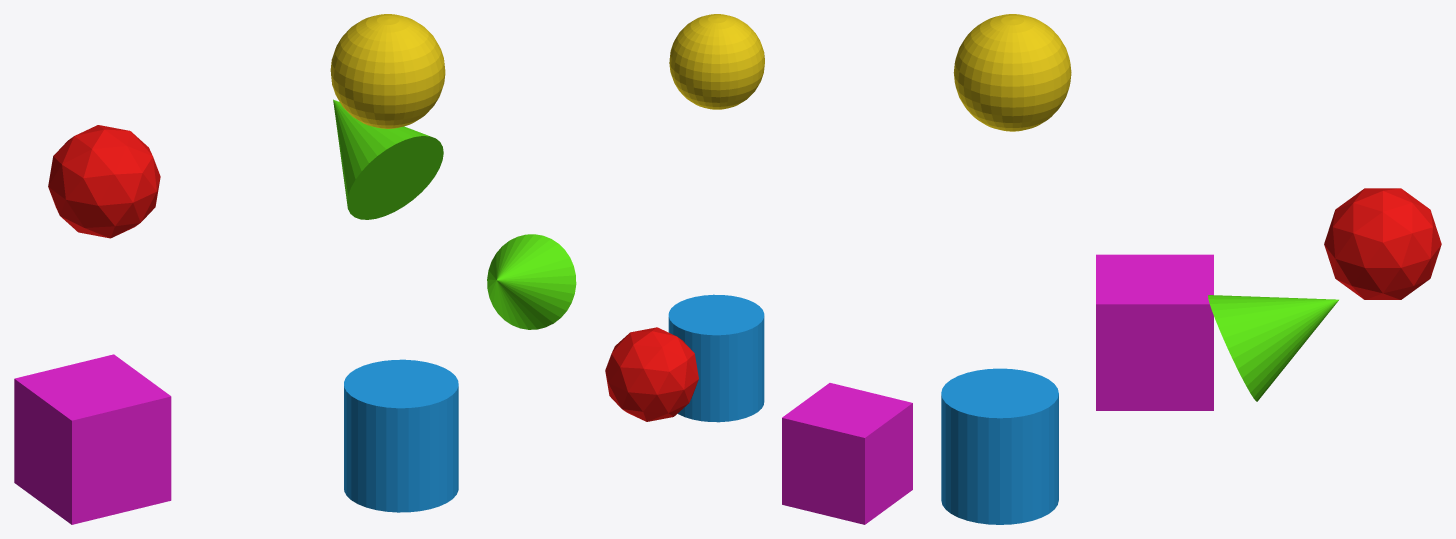
Rendered from basic_geometry.gltf.
3 views of the same model, side by side, from view 1: azimuth 30°, elevation 25°; view 2: azimuth 150°, elevation 25°; view 3: azimuth 270°, elevation 25° (orthographic). The views are drawn at different scales.
Visible parts, largest first — view 1: Cube, Cylinder, Sphere, Icosphere, Cone; view 2: Cube, Cylinder, Sphere, Cone, Icosphere; view 3: Cube, Cylinder, Sphere, Icosphere, Cone.
Boxes of the visible parts, x1,y1,x2,y2 form: Cube: (14,354,171,524); Cylinder: (344,359,458,512); Sphere: (330,14,445,128); Icosphere: (48,125,160,238); Cone: (333,99,443,219); Cube: (782,383,912,524); Cylinder: (668,294,764,422); Sphere: (669,14,764,109); Cone: (487,234,576,329); Icosphere: (605,327,698,421); Cube: (1096,254,1213,410); Cylinder: (941,368,1058,524); Sphere: (953,14,1071,131); Icosphere: (1324,188,1441,299); Cone: (1208,295,1338,401).
Size of what is drawn, in the model's own units: 8.83 by 8.98 by 8.5.
